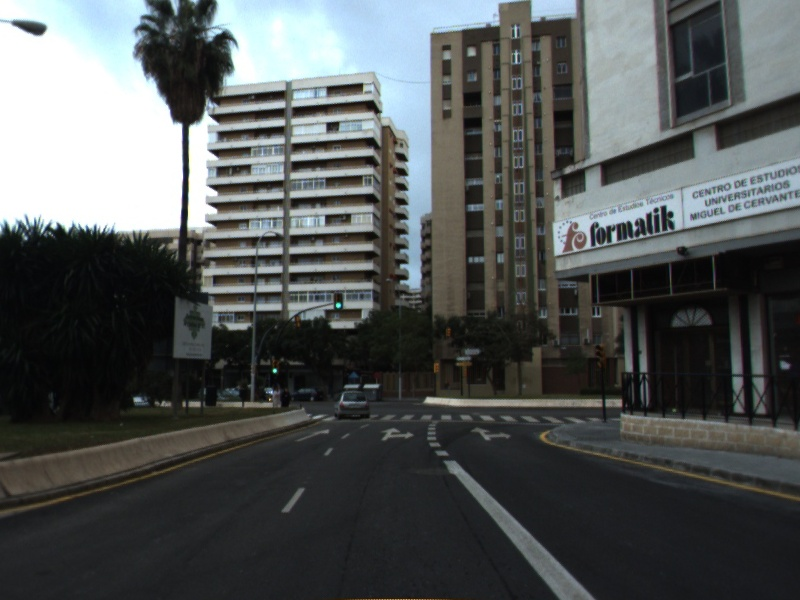STRAIGHT: (293, 426, 332, 443)
STRAIGHT_RIGHT: (468, 425, 513, 443), (378, 425, 417, 443)
